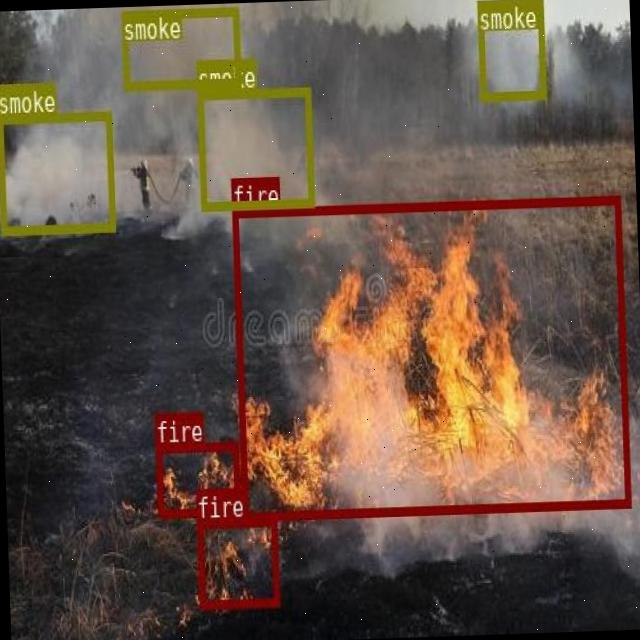fire: (231, 196, 630, 520), (195, 516, 279, 606), (156, 440, 240, 516)
smoke: (196, 85, 313, 208), (0, 109, 113, 234), (121, 6, 240, 88), (476, 0, 545, 99)
